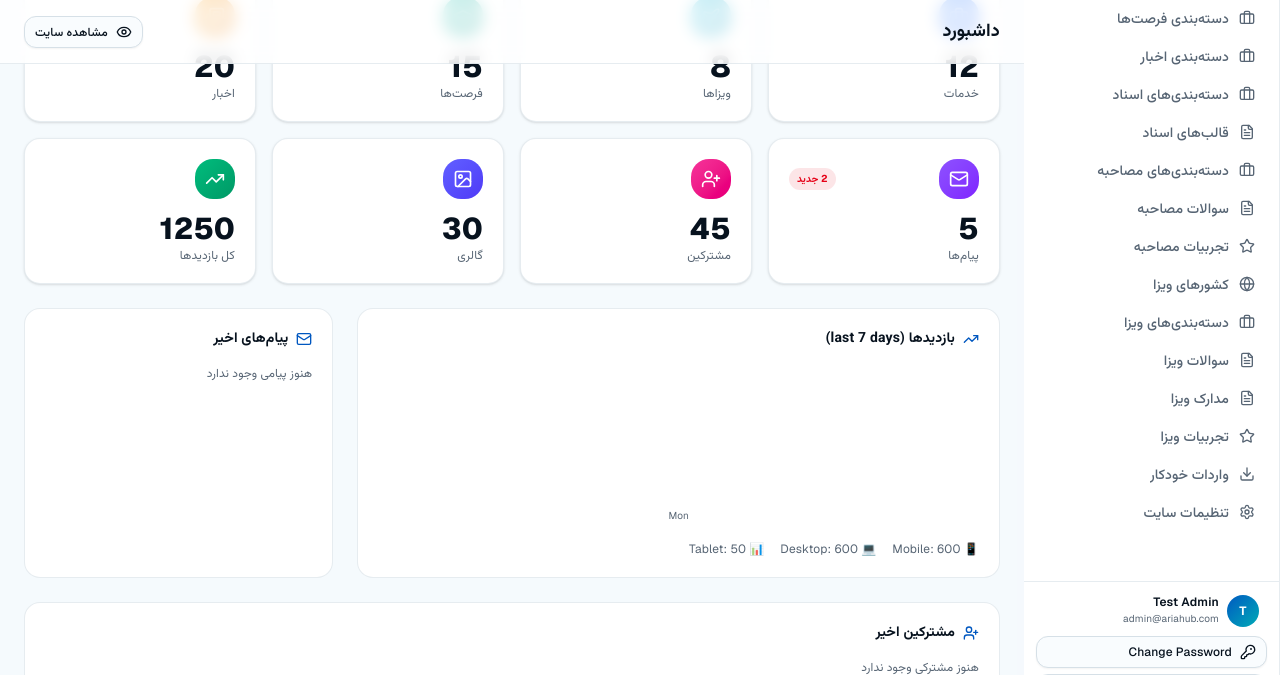
Test: Settings Panel Unit Tests › Section Headers - Requirement 7.3 › renders Branding section header with Persian translation
(page scrolled)
Expected: the text "تنظیمات سایت" is shown, left=1144, top=502, right=1229, bottom=522
Click the button "تنظیمات سایت". click: (1152, 512)
box: left=1036, top=494, right=1267, bottom=530
(page scrolled)
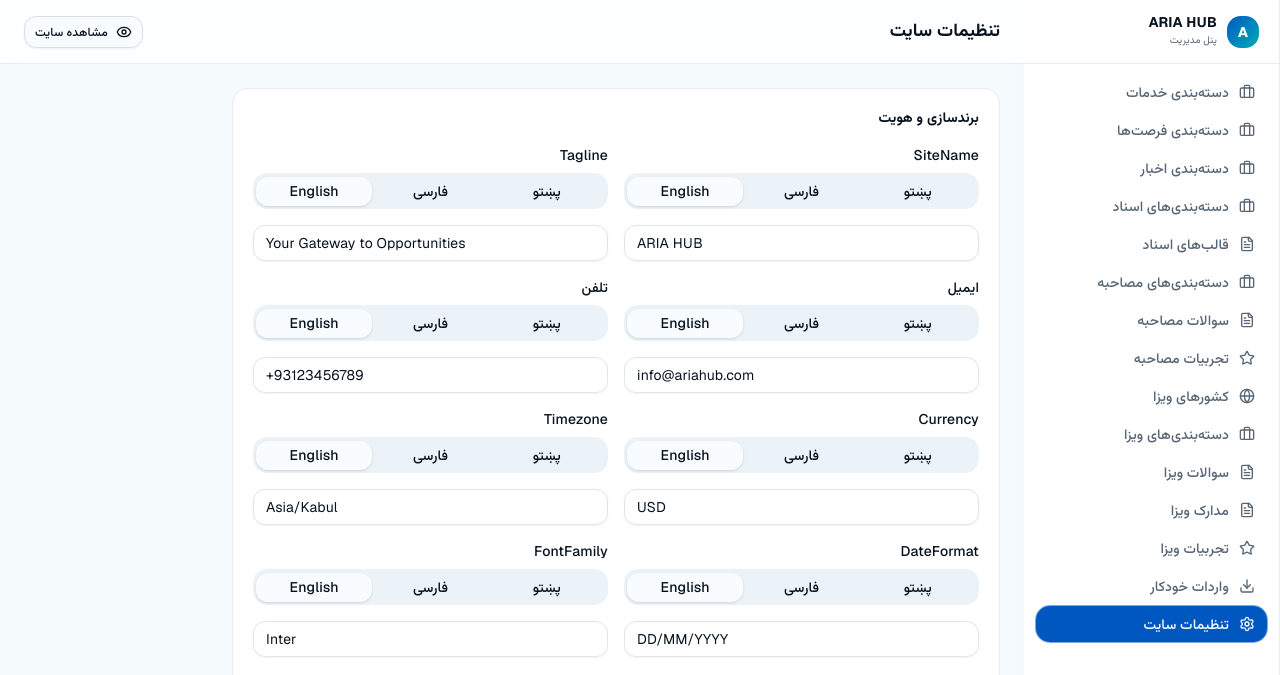
Expected: the heading "برندسازی و هویت" is shown, left=878, top=108, right=979, bottom=130
